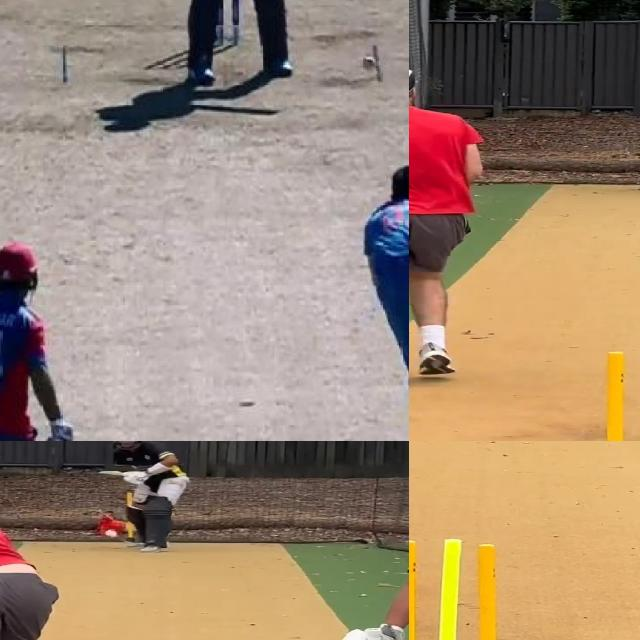Cricket ball: (359, 52, 378, 74), (104, 529, 120, 539)
Stumps: (409, 537, 515, 640), (579, 348, 640, 441)
